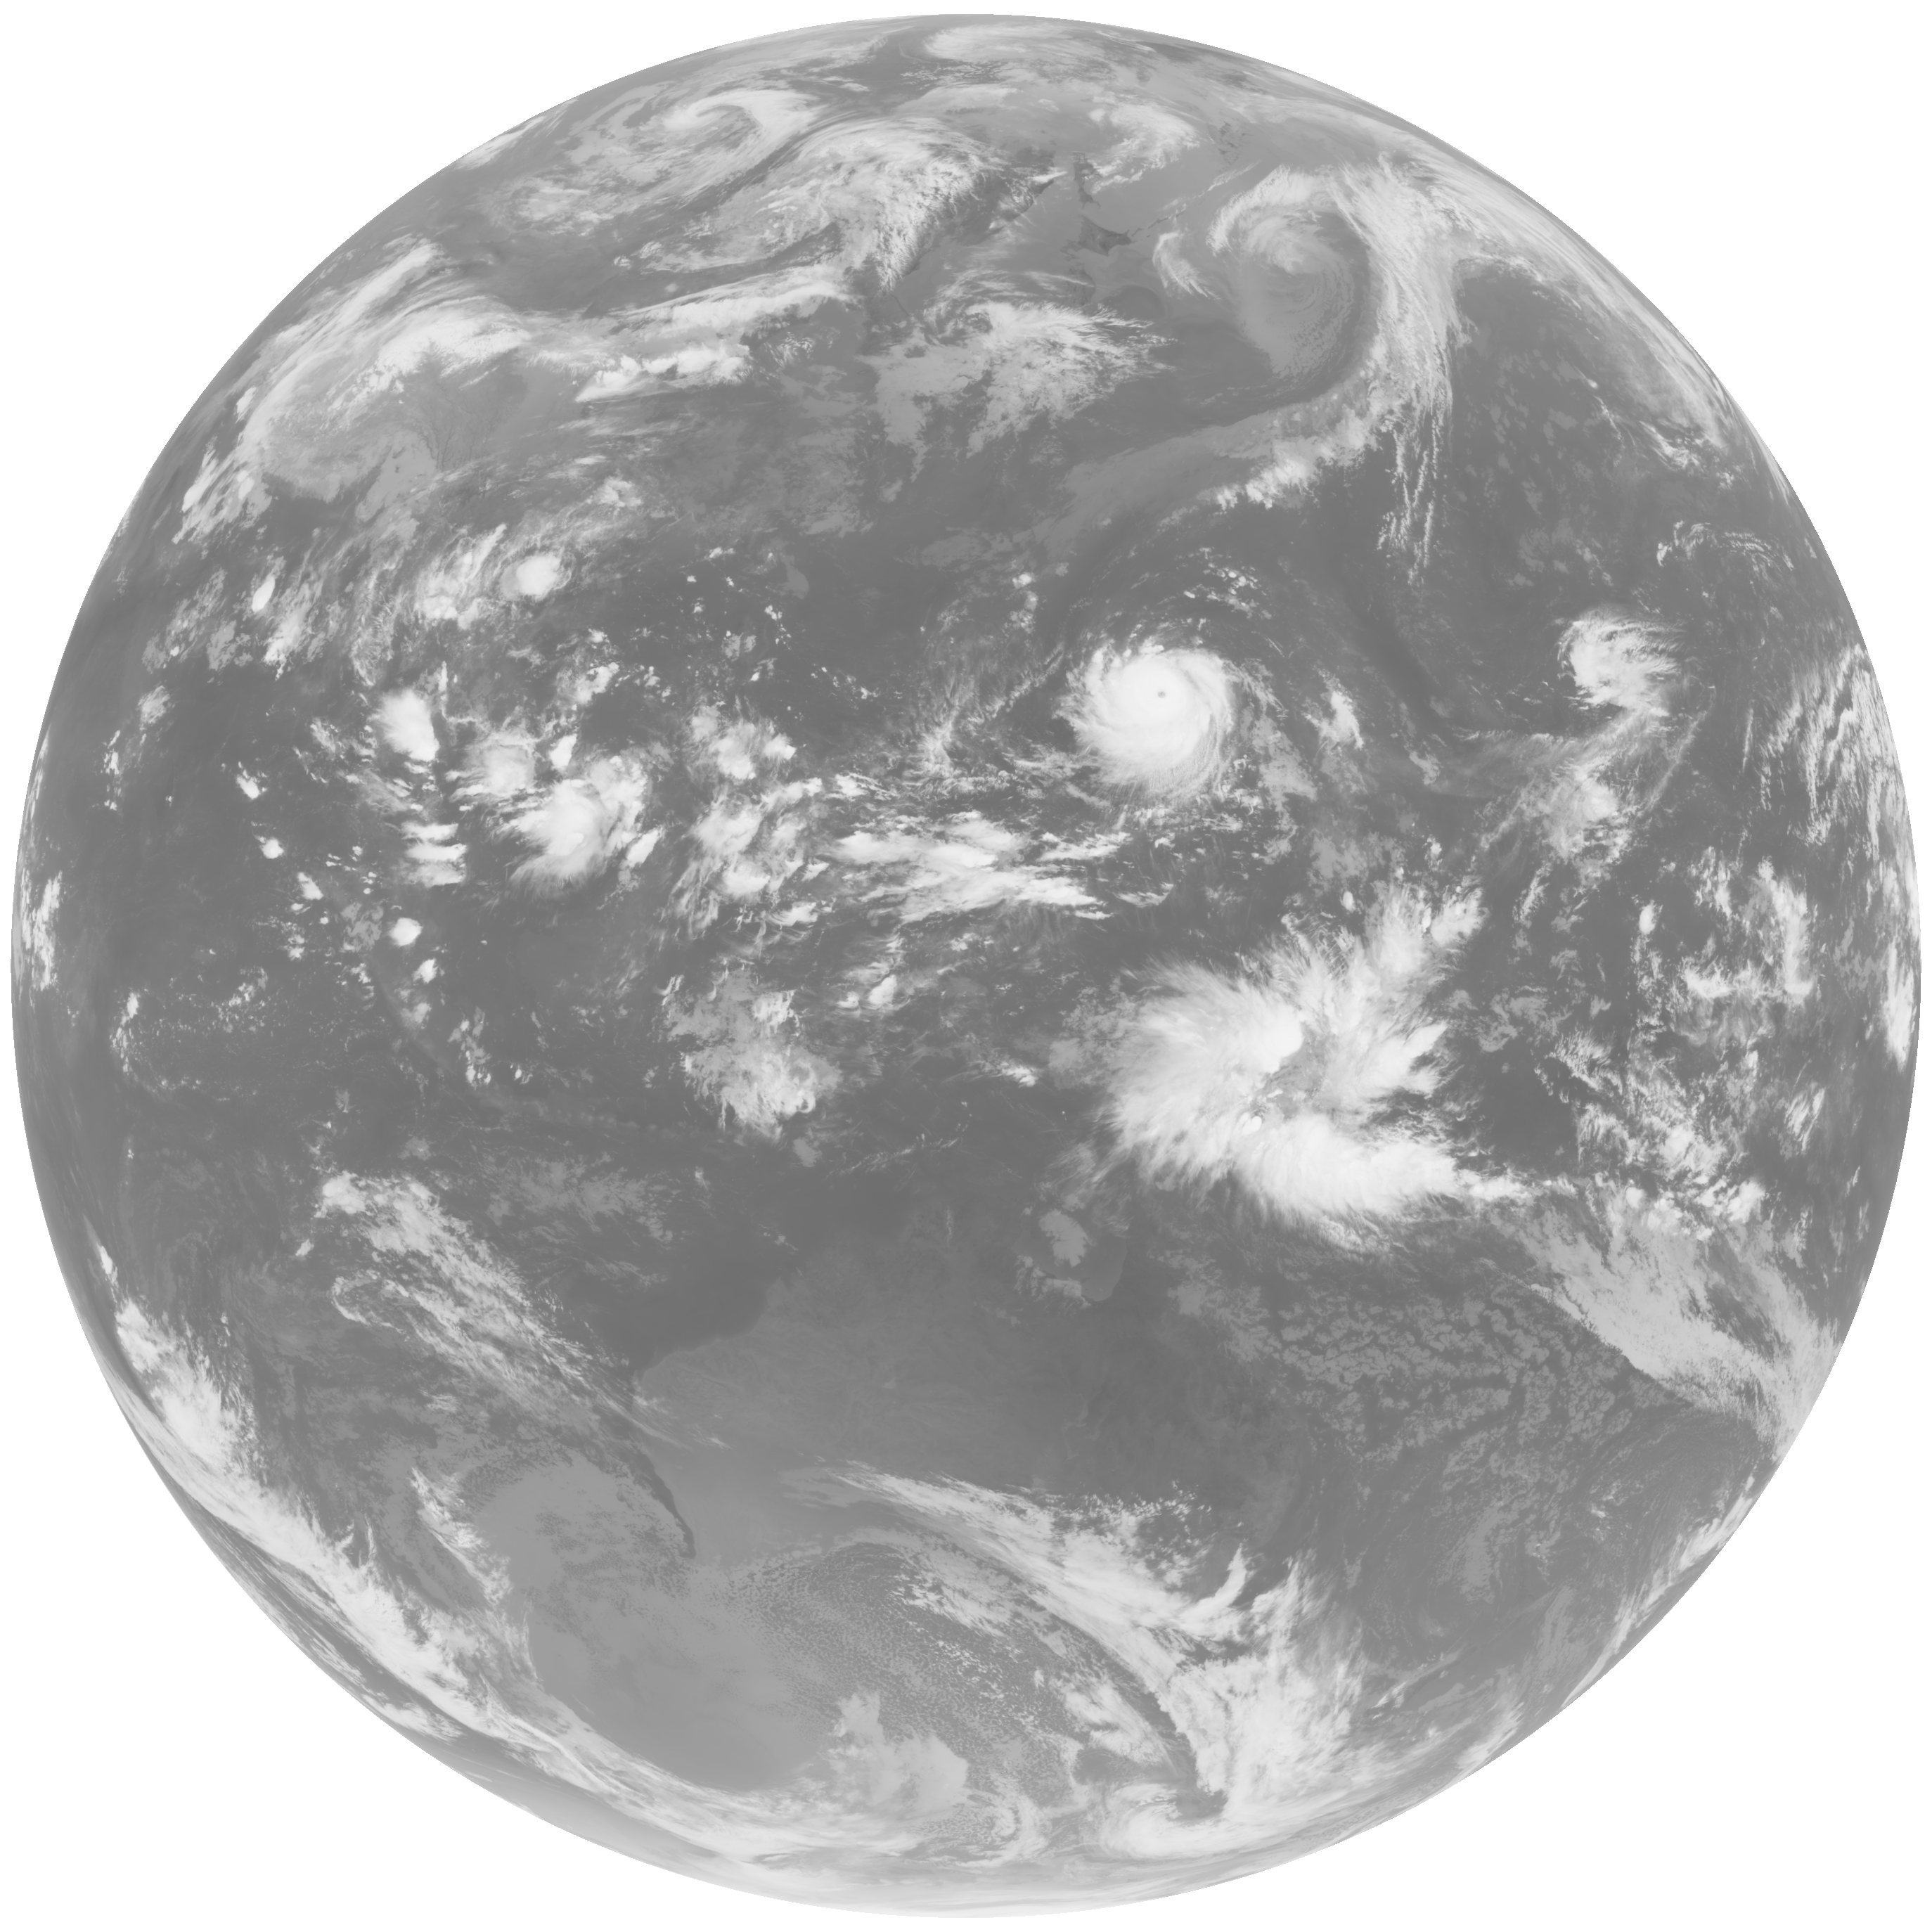typhoon: (932, 602, 1359, 885)
